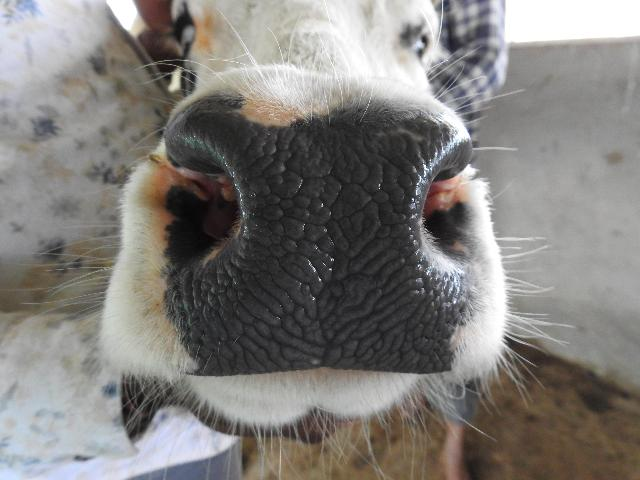Muzzle: (211, 122, 443, 366)
